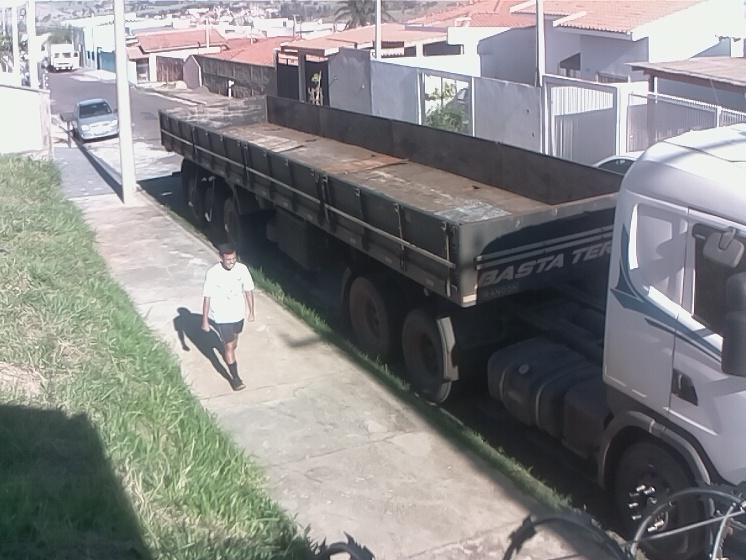person: (197, 243, 257, 393)
